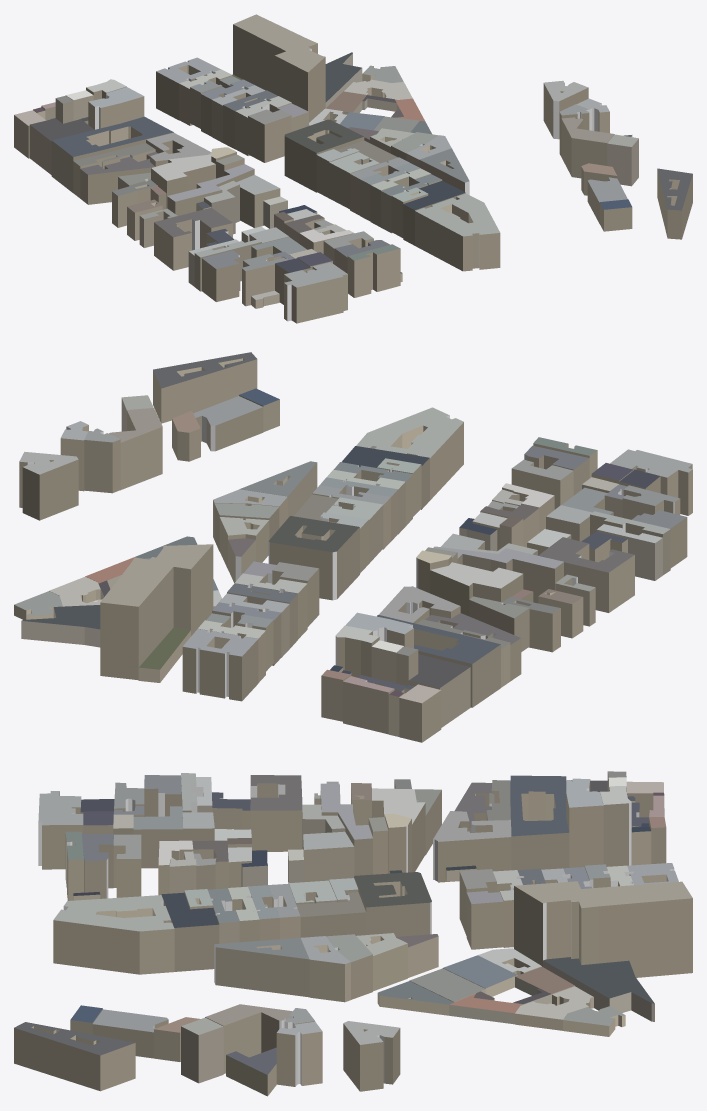
3 renders of one model, top to bottom at view 1: azimuth 30°, elevation 25°; view 2: azimuth 150°, elevation 25°; view 3: azimuth 270°, elevation 25°, orthographic. The views are drawn at different scales.
Parts seen in each view (by area): view 1: tuile; view 2: tuile; view 3: tuile.
Part boxes in pixels (<box>): tuile: <box>14,14,692,323</box>; tuile: <box>14,352,692,742</box>; tuile: <box>14,771,692,1096</box>.
Bounding box in the file's own units: 269 × 34.43 × 275.
